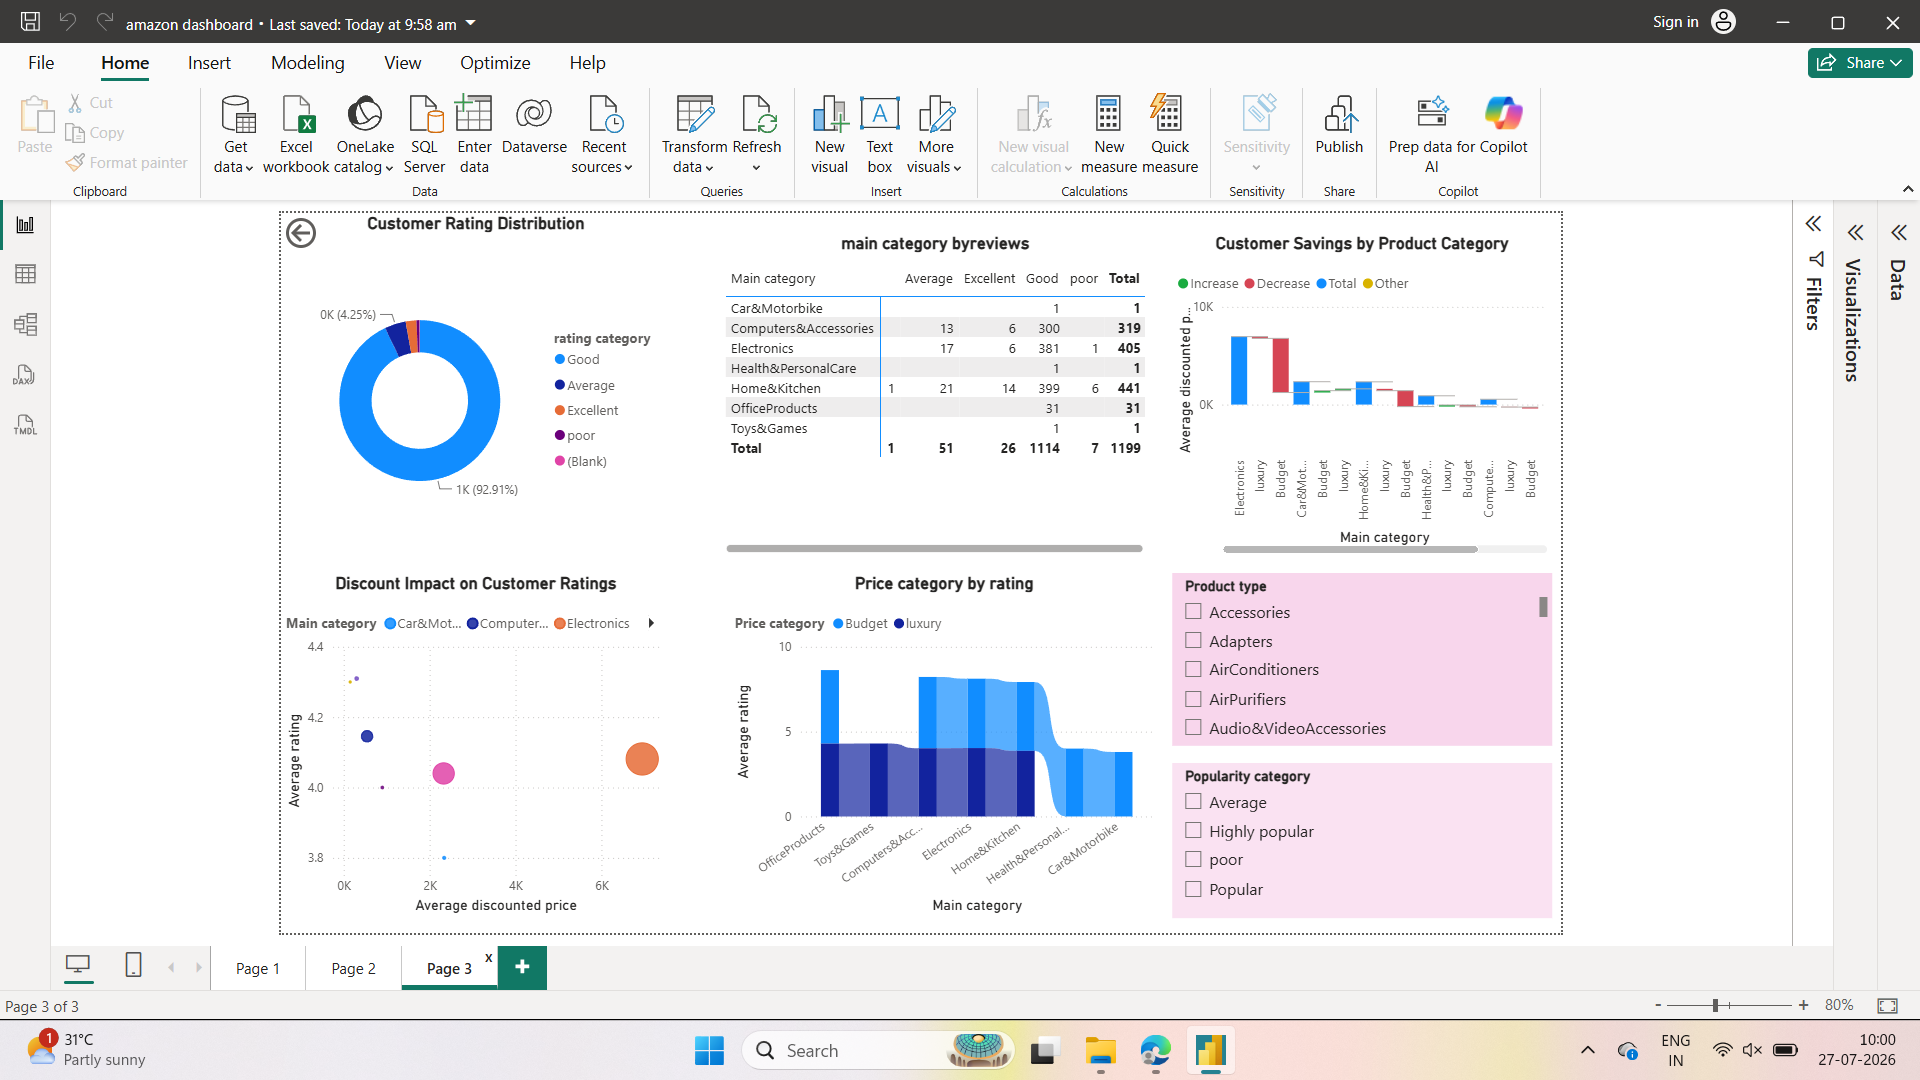

The dashboard page shown, as its layout file describes it:
{"tool":"powerbi","page":{"name":"Page 3","canvas":[1280,720],"ordinal":2},"visuals":[{"type":"donutChart","title":"Customer Rating Distribution","fields":{"Category":["Amazon_sales.rating category"],"Y":["Table.Product count"]},"box":[0,0,390,345],"z":0},{"type":"actionButton","box":[0,0,100,40],"z":1000},{"type":"scatterChart","title":"Discount Impact on Customer Ratings","fields":{"X":["Table.Average discounted price"],"Y":["Table.Average rating"],"Series":["Amazon_sales.Main category"],"Size":["Sum(Amazon_sales.Actual price)"]},"box":[0,360,390,345],"z":2000},{"type":"pivotTable","title":"main category byreviews","fields":{"Rows":["Amazon_sales.Main category"],"Columns":["Amazon_sales.rating category"],"Values":["Table.Product count"]},"box":[440,20,428.8,325],"z":3000},{"type":"ribbonChart","title":"Price category by rating","fields":{"Category":["Amazon_sales.Main category"],"Y":["Table.Average rating"],"Series":["Amazon_sales.Price category"]},"box":[448.8,360,429,345],"z":4000},{"type":"waterfallChart","title":"Customer Savings by Product Category","fields":{"Category":["Amazon_sales.Main category"],"Y":["Table.Average discounted price"],"Breakdown":["Amazon_sales.Price category"]},"box":[891.2,20,380,325],"z":5000},{"type":"slicer","fields":{"Values":["Amazon_sales.Popularity category"]},"box":[891.2,550,380,155],"z":6000},{"type":"slicer","fields":{"Values":["Amazon_sales.Product type"]},"box":[891.2,360,380,172.5],"z":7000}]}

Visuals, with their boxes on the page's 1280x720 design canvas (x1, y1, x2, y2). These are canvas units, not pixel positions in the 1920x1080 screenshot, which may show the page scaled, cropped or inside an application window:
"Customer Rating Distribution" donutChart: x1=0 y1=0 x2=390 y2=345
actionButton: x1=0 y1=0 x2=100 y2=40
"Discount Impact on Customer Ratings" scatterChart: x1=0 y1=360 x2=390 y2=705
"main category byreviews" pivotTable: x1=440 y1=20 x2=869 y2=345
"Price category by rating" ribbonChart: x1=449 y1=360 x2=878 y2=705
"Customer Savings by Product Category" waterfallChart: x1=891 y1=20 x2=1271 y2=345
slicer - Amazon_sales.Popularity category: x1=891 y1=550 x2=1271 y2=705
slicer - Amazon_sales.Product type: x1=891 y1=360 x2=1271 y2=532
